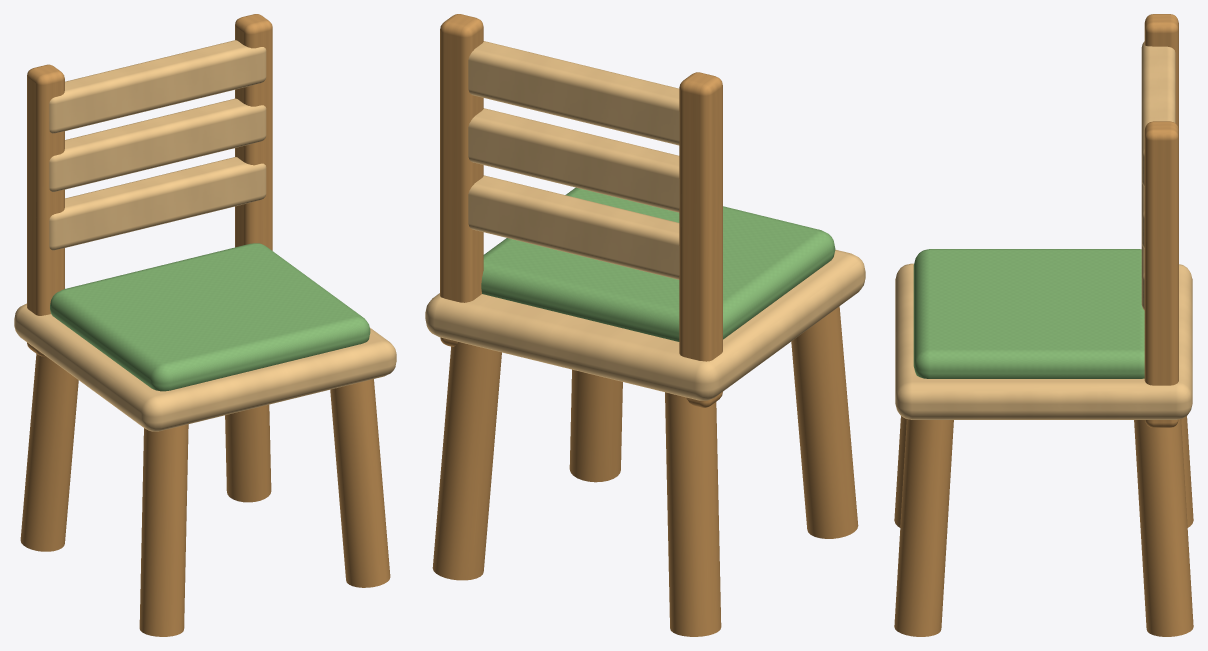
Rendered from CHAIR.glb.
The picture shows the model from 3 angles, left to right: view 1: azimuth 30°, elevation 25°; view 2: azimuth 150°, elevation 25°; view 3: azimuth 270°, elevation 25°; orthographic projection. The views are drawn at different scales.
Parts seen in each view (by area): view 1: CHAIR; view 2: CHAIR; view 3: CHAIR.
Part boxes in pixels (x1,y1,x2,y2): CHAIR: (14, 14, 396, 636); CHAIR: (425, 14, 865, 636); CHAIR: (894, 14, 1193, 636).
Size of the model in its own units: 0.5 by 0.898 by 0.4827.
3 materials, 3 textured.
